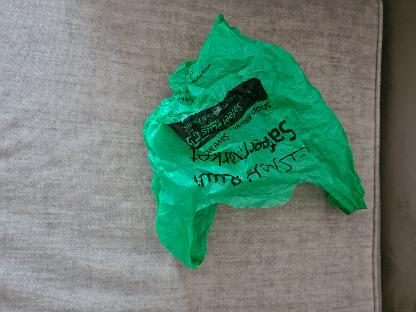Plastic Bag: (148, 15, 366, 269)
